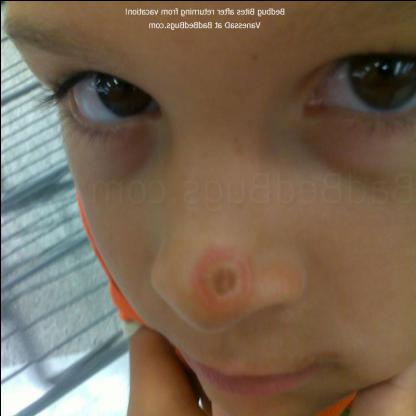Bed Bug: (188, 236, 258, 319)
